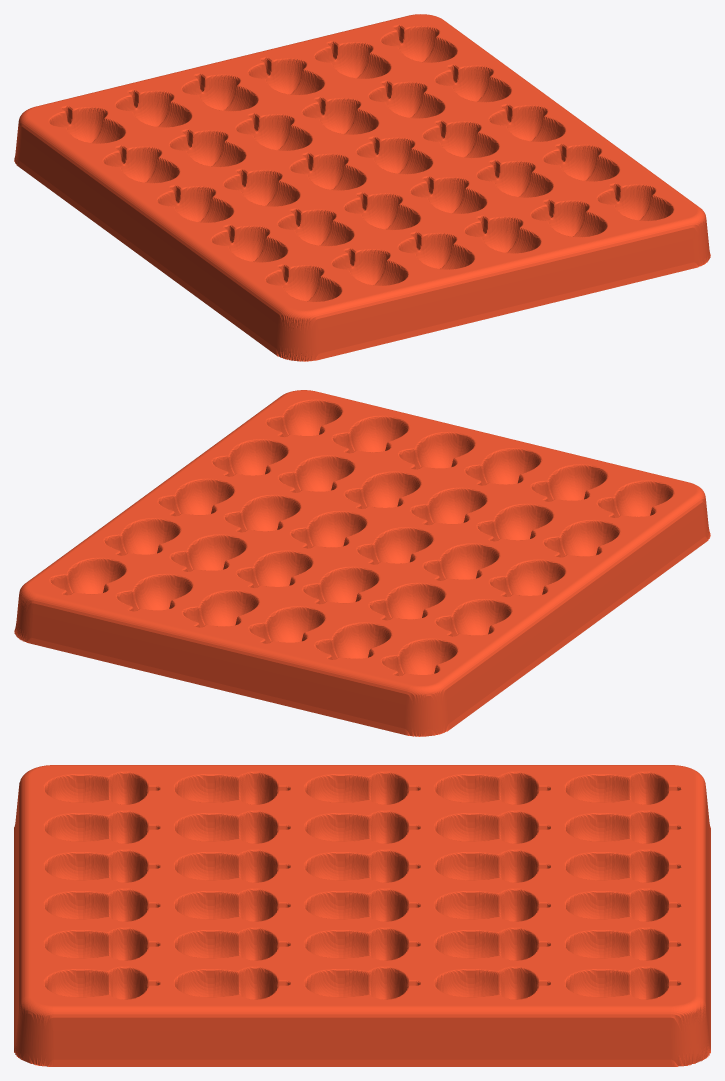
File: mold.glb
3 renders of one model, top to bottom at view 1: azimuth 30°, elevation 25°; view 2: azimuth 150°, elevation 25°; view 3: azimuth 270°, elevation 25°, orthographic. The views are drawn at different scales.
Parts seen in each view (by area): view 1: geometry_0; view 2: geometry_0; view 3: geometry_0.
Part boxes in pixels (x1,y1,x2,y2): geometry_0: (14,14,710,361); geometry_0: (14,390,710,736); geometry_0: (14,765,710,1066).
Bounding box in the file's own units: 0.136 × 0.0136 × 0.1581.
